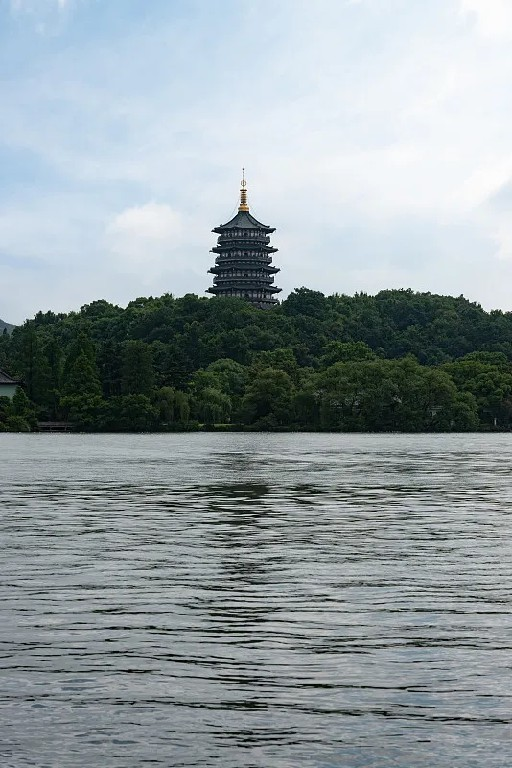Leifeng: (209, 168, 281, 312)
